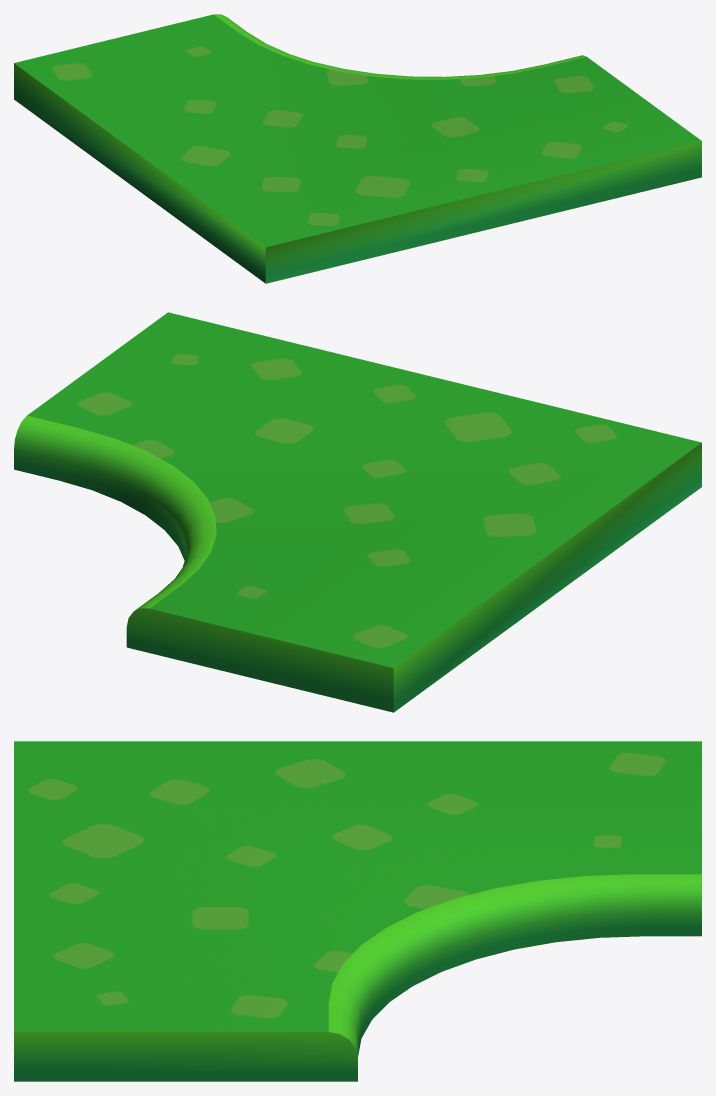
File: GrassFloor_InnerCorner_2.glb
The picture shows the model from 3 angles, top to bottom: view 1: azimuth 30°, elevation 25°; view 2: azimuth 150°, elevation 25°; view 3: azimuth 270°, elevation 25°; orthographic projection. The views are drawn at different scales.
Parts seen in each view (by area): view 1: GrassFloor_InnerCorner_2; view 2: GrassFloor_InnerCorner_2; view 3: GrassFloor_InnerCorner_2.
Part boxes in pixels (left/top/right/bottom): GrassFloor_InnerCorner_2: left=14, top=14, right=701, bottom=283; GrassFloor_InnerCorner_2: left=14, top=312, right=701, bottom=712; GrassFloor_InnerCorner_2: left=14, top=741, right=701, bottom=1081.
Bounding box in the file's own units: 4 × 0.3187 × 4.
2 materials, 2 textured.
